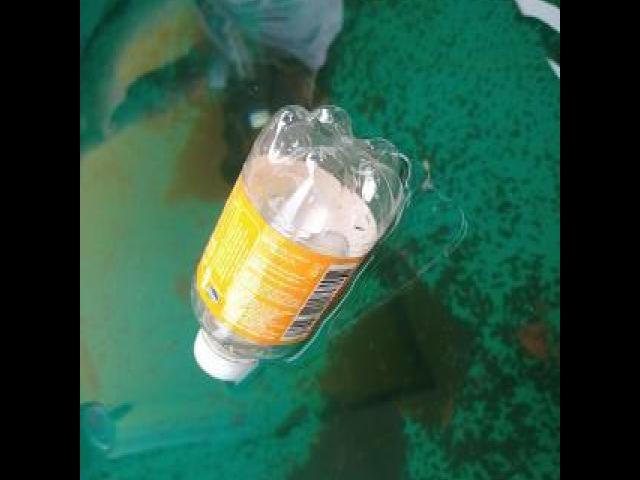Bottle: (181, 98, 417, 396)
